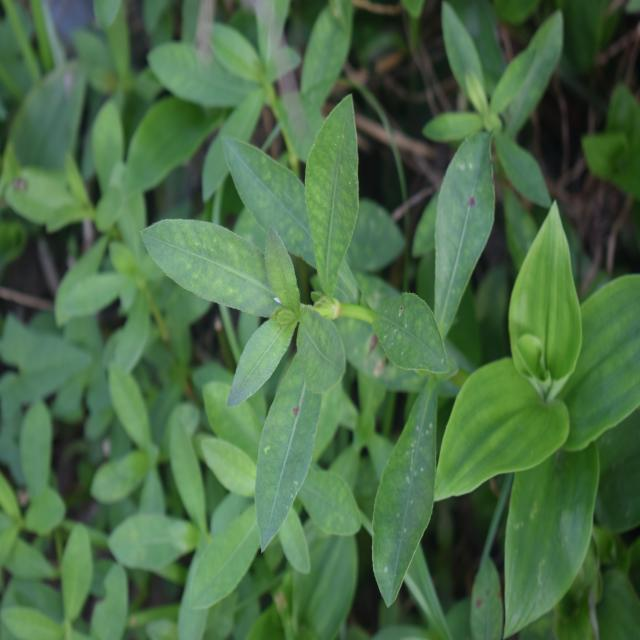Alligatorweed: (181, 120, 446, 522)
